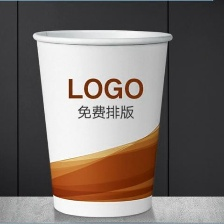paper_cup: (27, 25, 176, 224)
